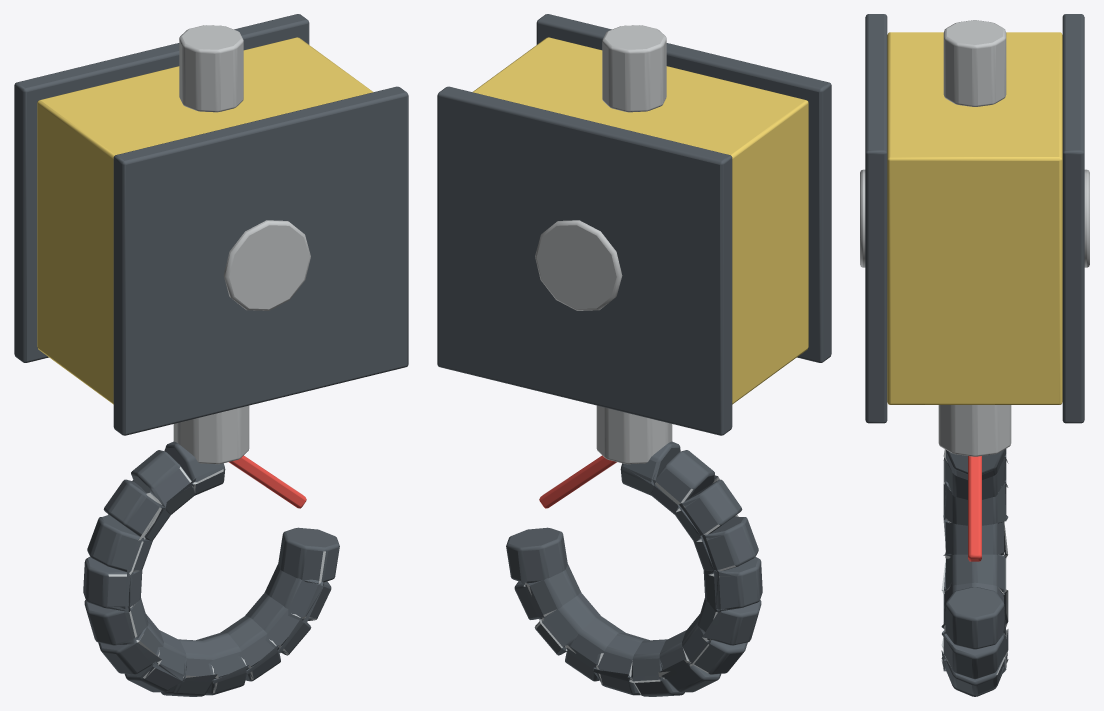
File: hero_crane_hook.fbx
3 views of the same model, side by side, from view 1: azimuth 30°, elevation 25°; view 2: azimuth 150°, elevation 25°; view 3: azimuth 270°, elevation 25° (orthographic).
Visible parts, largest first — view 1: hero_crane_hook; view 2: hero_crane_hook; view 3: hero_crane_hook.
Part boxes in pixels (x1=…): hero_crane_hook: x1=14, y1=14, x2=408, y2=696; hero_crane_hook: x1=437, y1=14, x2=831, y2=696; hero_crane_hook: x1=860, y1=14, x2=1089, y2=696.
Size of the model in its own units: 1.2 by 2.62 by 0.84.
